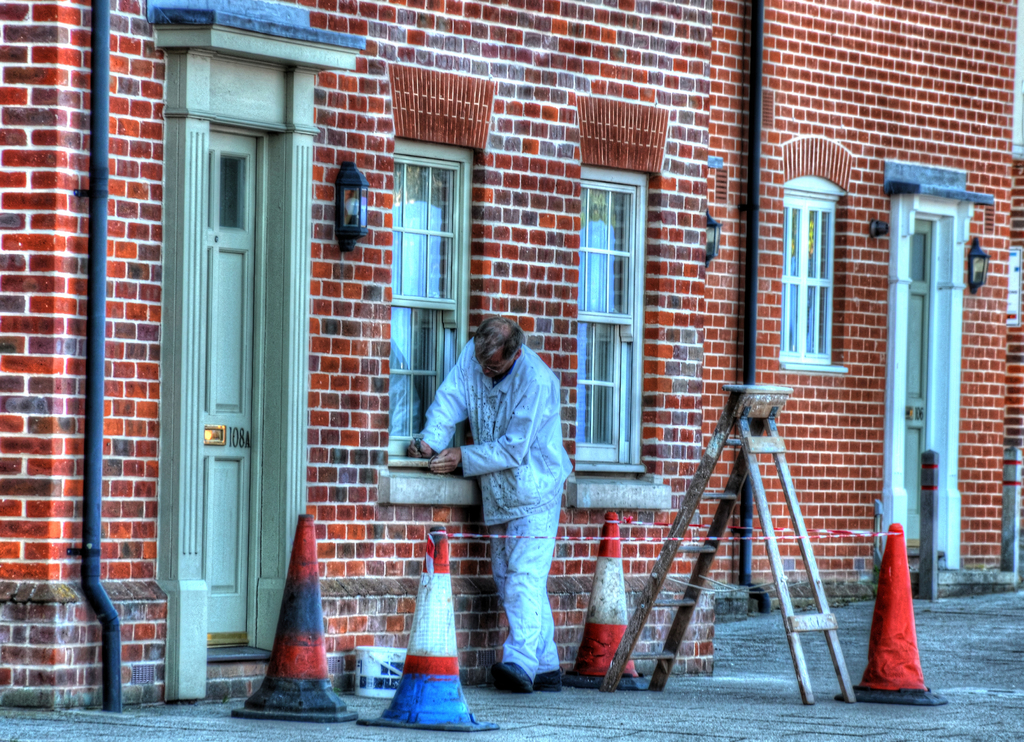door: (214, 139, 262, 641), (907, 230, 934, 531)
